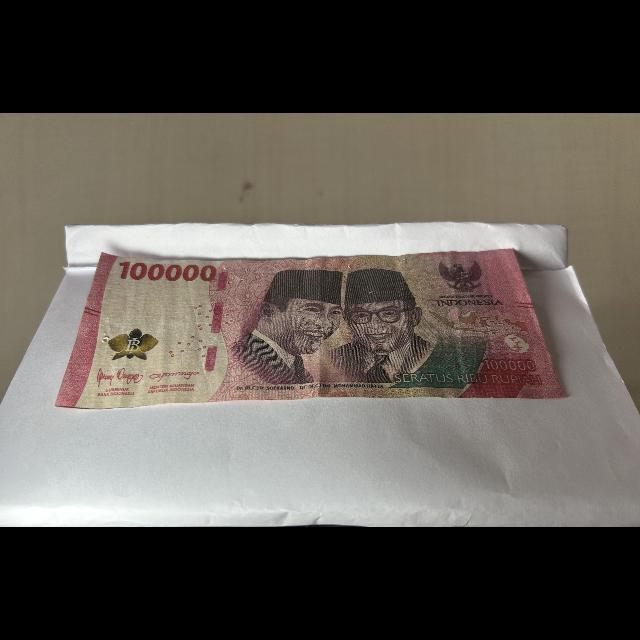Palsu-100k: (47, 243, 571, 413)
Tinta-Palsu-100k: (106, 327, 163, 363)
